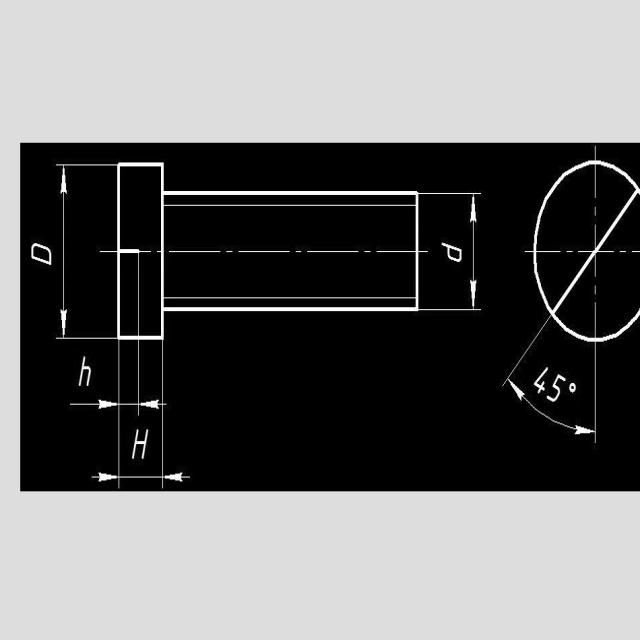marking_line: (58, 340, 191, 489), (118, 342, 193, 491), (58, 160, 116, 343), (501, 344, 599, 445), (419, 189, 484, 314), (64, 344, 123, 418), (130, 342, 169, 415)
